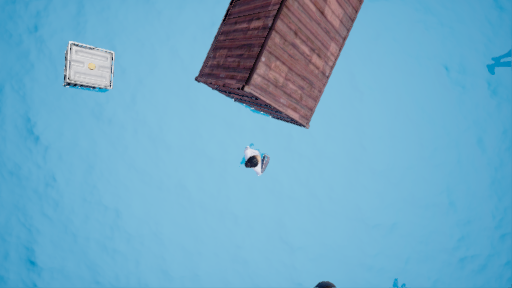person: (241, 142, 276, 182)
